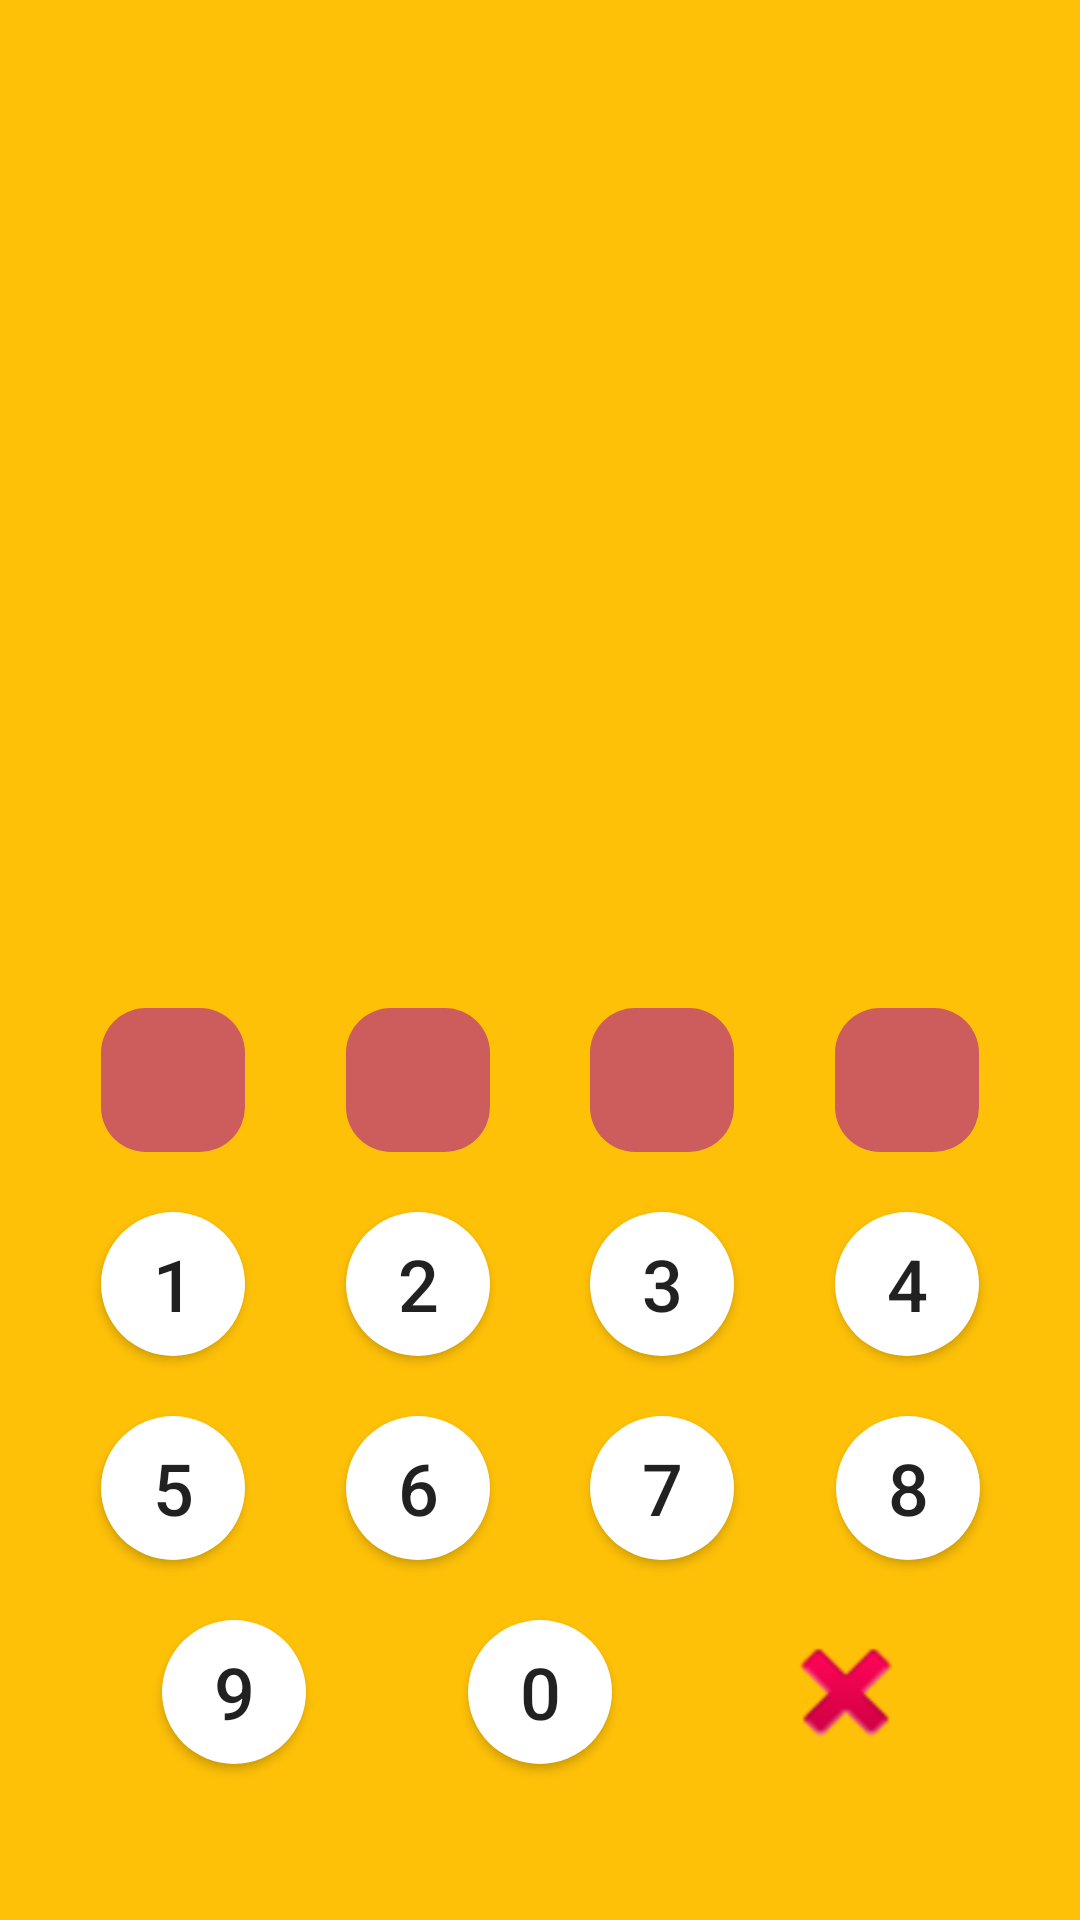

Where icons sit on this 1080×1920 app screen, as (x1, y1, x2, y2):
delete: (800, 1648, 892, 1737)
